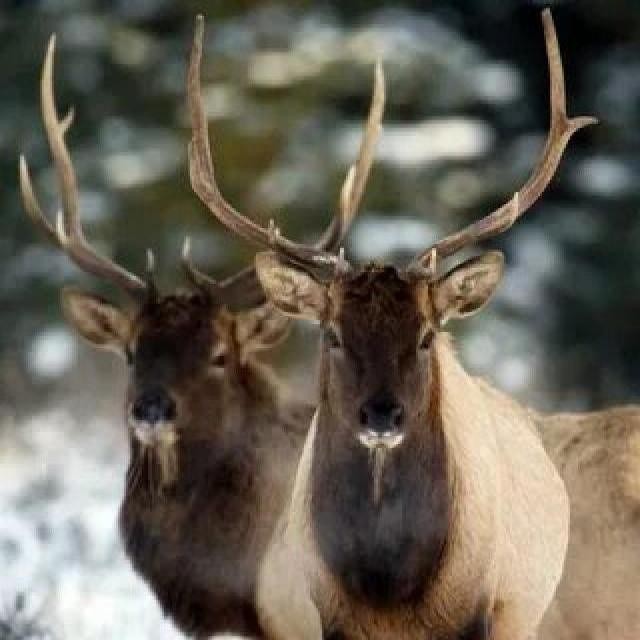deer: (95, 148, 640, 640), (75, 221, 411, 620)
